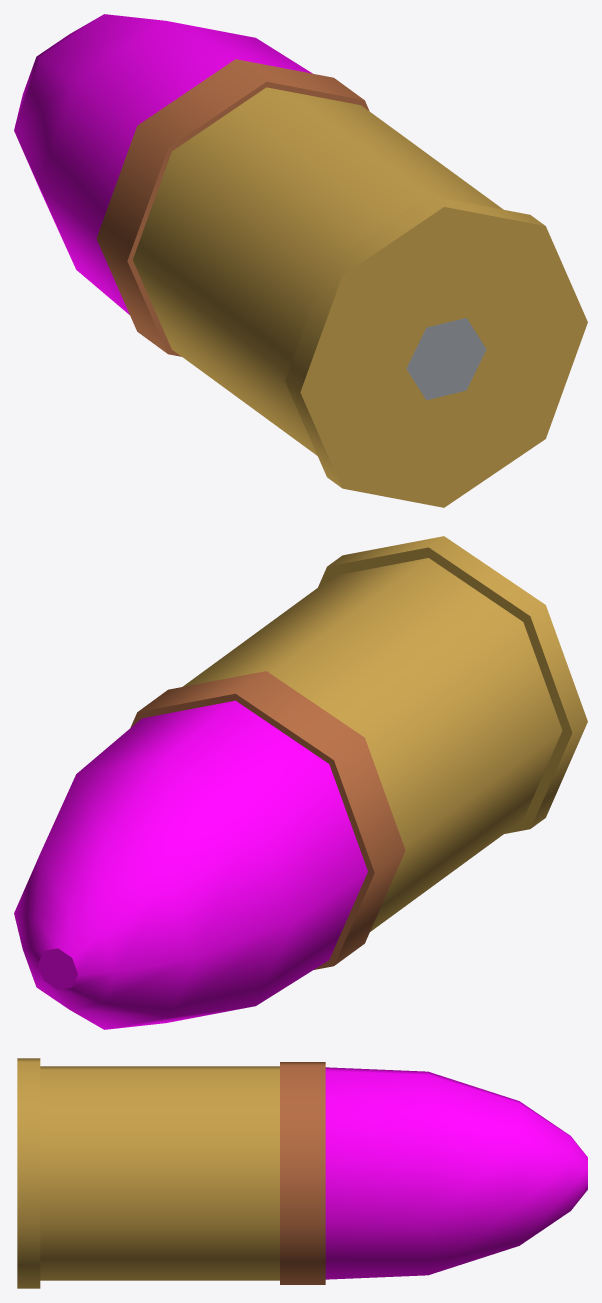
Rendered from grenade_40mm.glb.
The picture shows the model from 3 angles, top to bottom: view 1: azimuth 30°, elevation 25°; view 2: azimuth 150°, elevation 25°; view 3: azimuth 270°, elevation 25°; orthographic projection. The views are drawn at different scales.
Parts seen in each view (by area): view 1: grenade_40mm__body; view 2: grenade_40mm__body; view 3: grenade_40mm__body.
Part boxes in pixels (x1,y1,x2,y2): grenade_40mm__body: (14, 14, 587, 507); grenade_40mm__body: (14, 536, 587, 1029); grenade_40mm__body: (17, 1058, 587, 1288).
Bounding box in the file's own units: 0.043 × 0.043 × 0.1006.
Materials: 1 (1 with a texture image).
